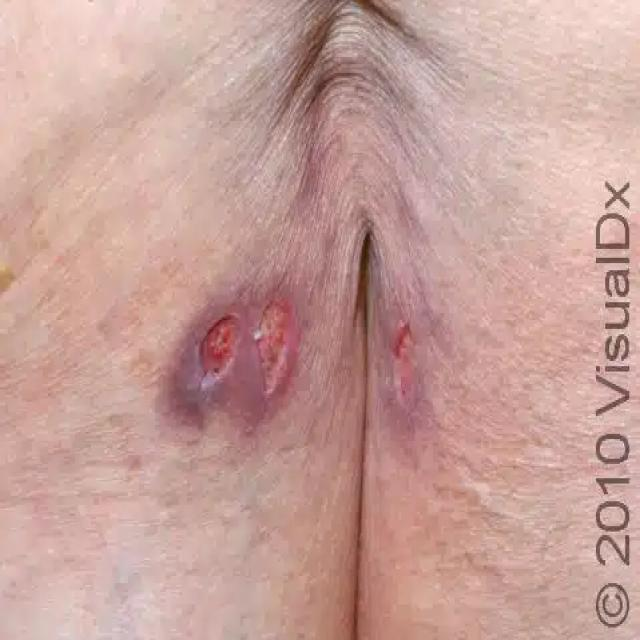stage-3: (258, 298, 298, 390), (199, 315, 237, 383)
